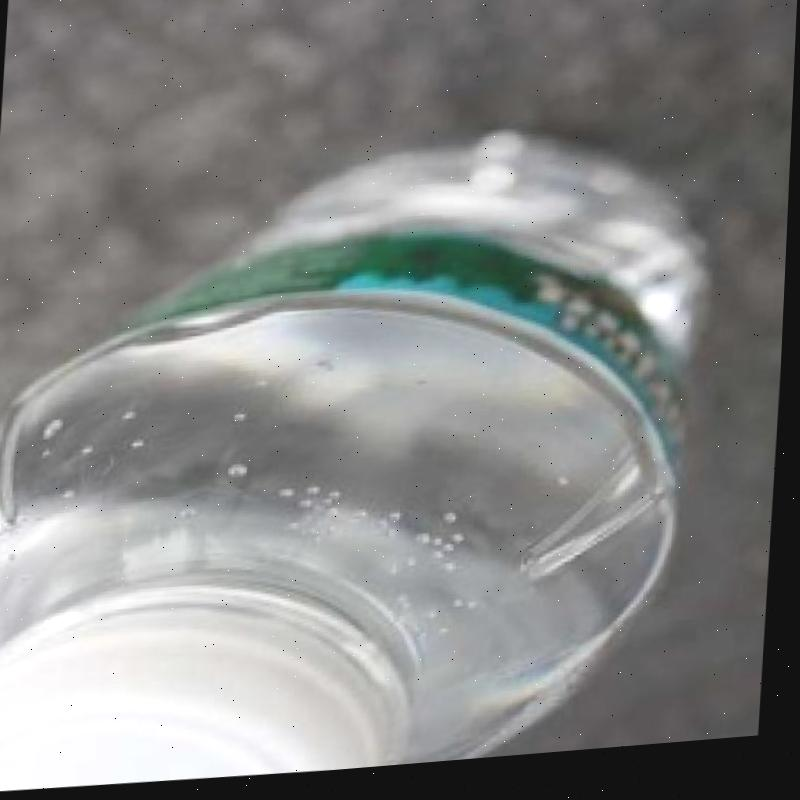botella: (0, 122, 717, 800)
